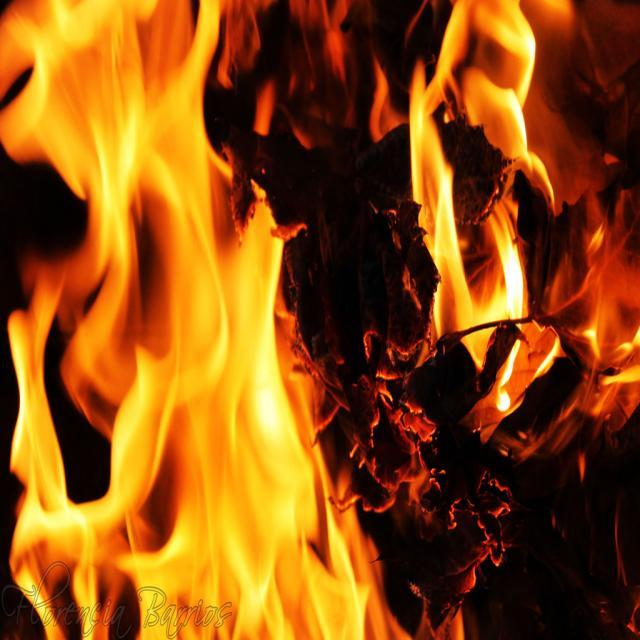Fire: (88, 205, 297, 638), (9, 2, 224, 178), (430, 0, 547, 143)
